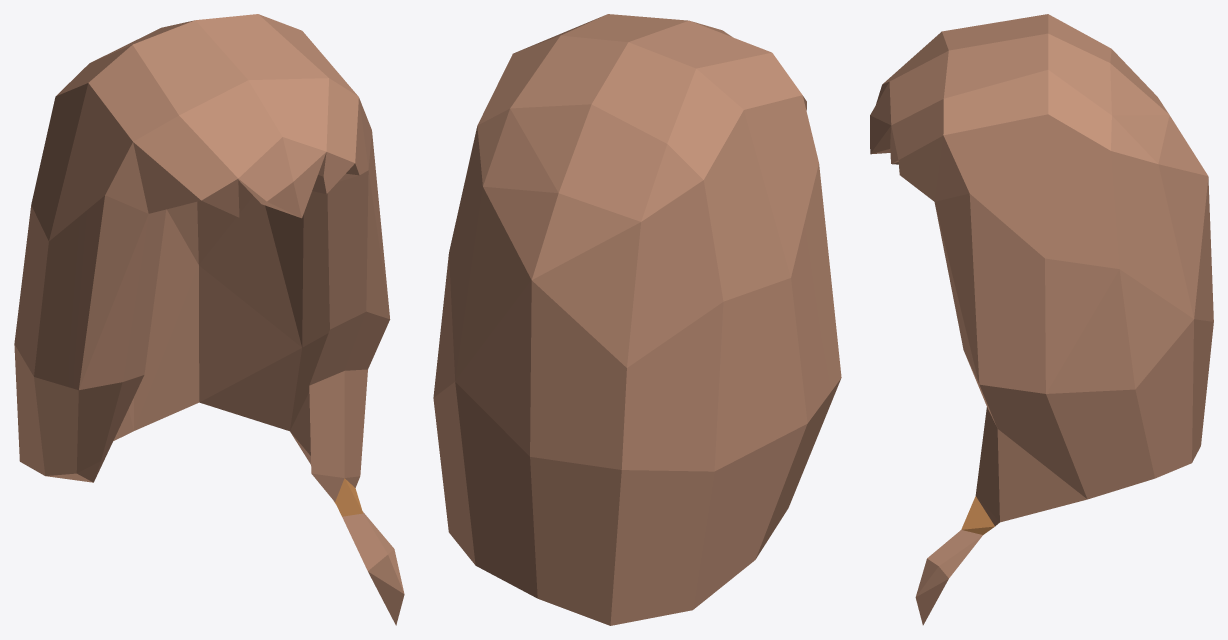
File: Pedestrian_F_Hair_A.fbx
3 views of the same model, side by side, from view 1: azimuth 30°, elevation 25°; view 2: azimuth 150°, elevation 25°; view 3: azimuth 270°, elevation 25° (orthographic). The views are drawn at different scales.
Parts seen in each view (by area): view 1: Pedestrian_F_Hair_A; view 2: Pedestrian_F_Hair_A; view 3: Pedestrian_F_Hair_A.
Part boxes in pixels (box(x1,y1,x2,y2)): Pedestrian_F_Hair_A: box(14, 14, 404, 625); Pedestrian_F_Hair_A: box(433, 14, 841, 625); Pedestrian_F_Hair_A: box(870, 14, 1213, 625).
Size of the model in its own units: 24.22 by 41.61 by 24.28.
